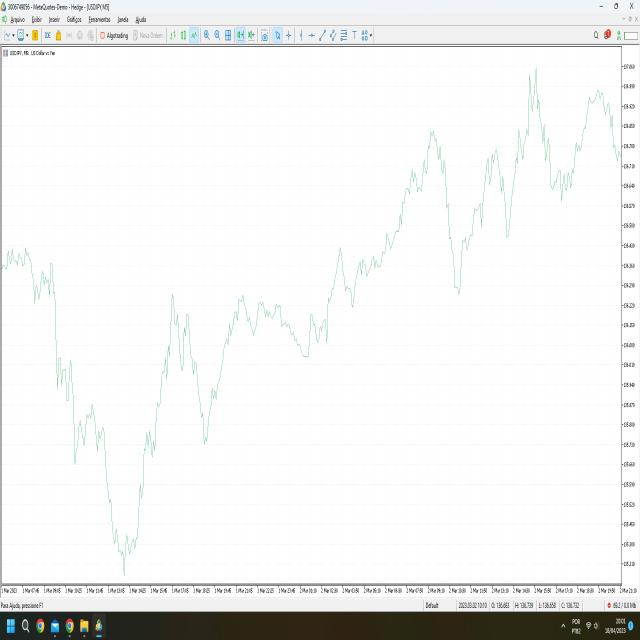bandeira_alta: (136, 416, 158, 574)
bandeira_baixa: (48, 257, 81, 404)
oco: (505, 56, 554, 212), (74, 401, 110, 475)
topo_duplo: (153, 286, 201, 401)
